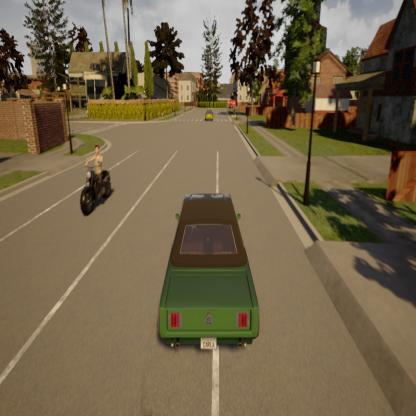Cars: (144, 189, 265, 369), (203, 107, 215, 123)
